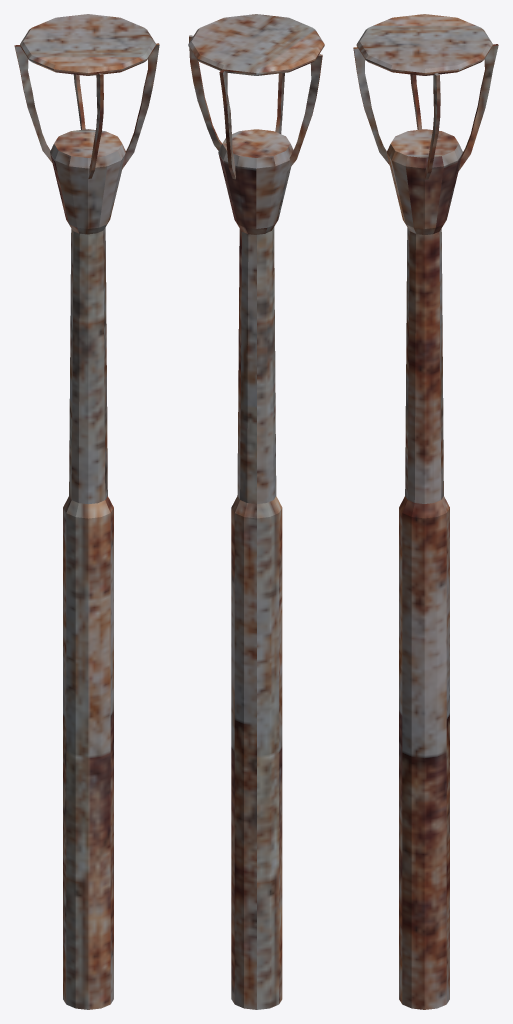
Rendered from farolLuz_moderno.fbx.
3 views of the same model, side by side, from view 1: azimuth 90°, elevation 25°; view 2: azimuth 150°, elevation 25°; view 3: azimuth 270°, elevation 25° (orthographic).
Parts seen in each view (by area): view 1: Farol_Plaza.002; view 2: Farol_Plaza.002; view 3: Farol_Plaza.002.
Boxes of the visible parts, left/top/right/bottom form: Farol_Plaza.002: left=14, top=14, right=159, bottom=1009; Farol_Plaza.002: left=188, top=14, right=324, bottom=1009; Farol_Plaza.002: left=353, top=14, right=498, bottom=1009.
Bounding box in the file's own units: 139 × 1054 × 145.
